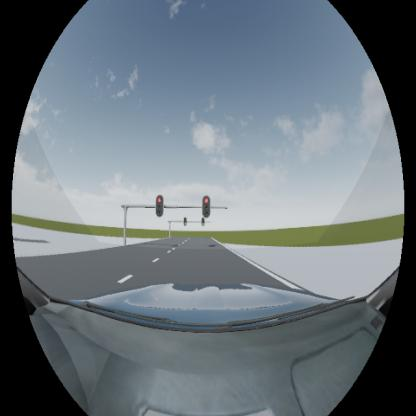Green Light: (184, 217, 186, 226)
Red Light: (202, 196, 210, 218), (156, 195, 163, 216)
